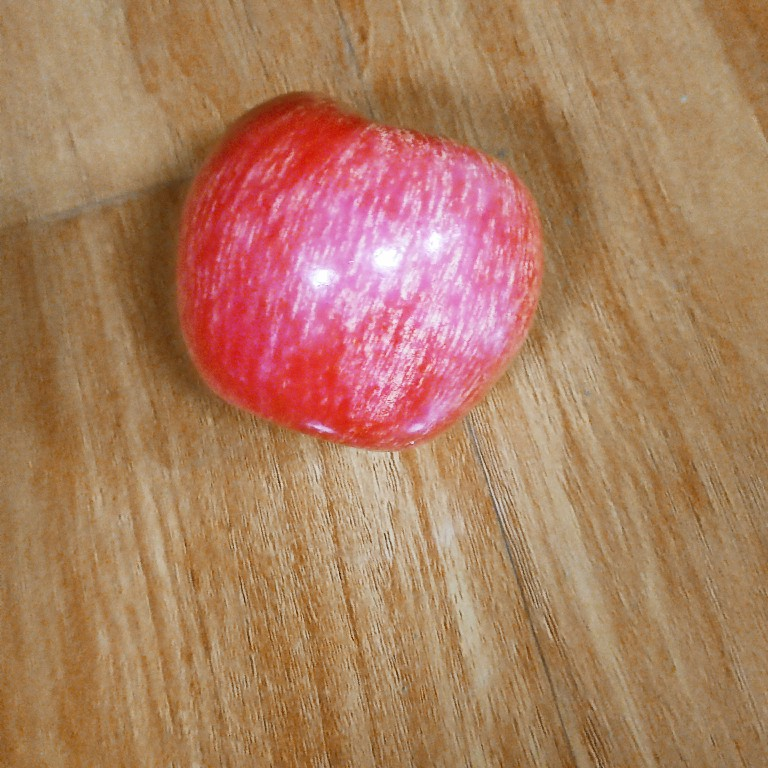fruit_apple: (165, 87, 550, 457)
